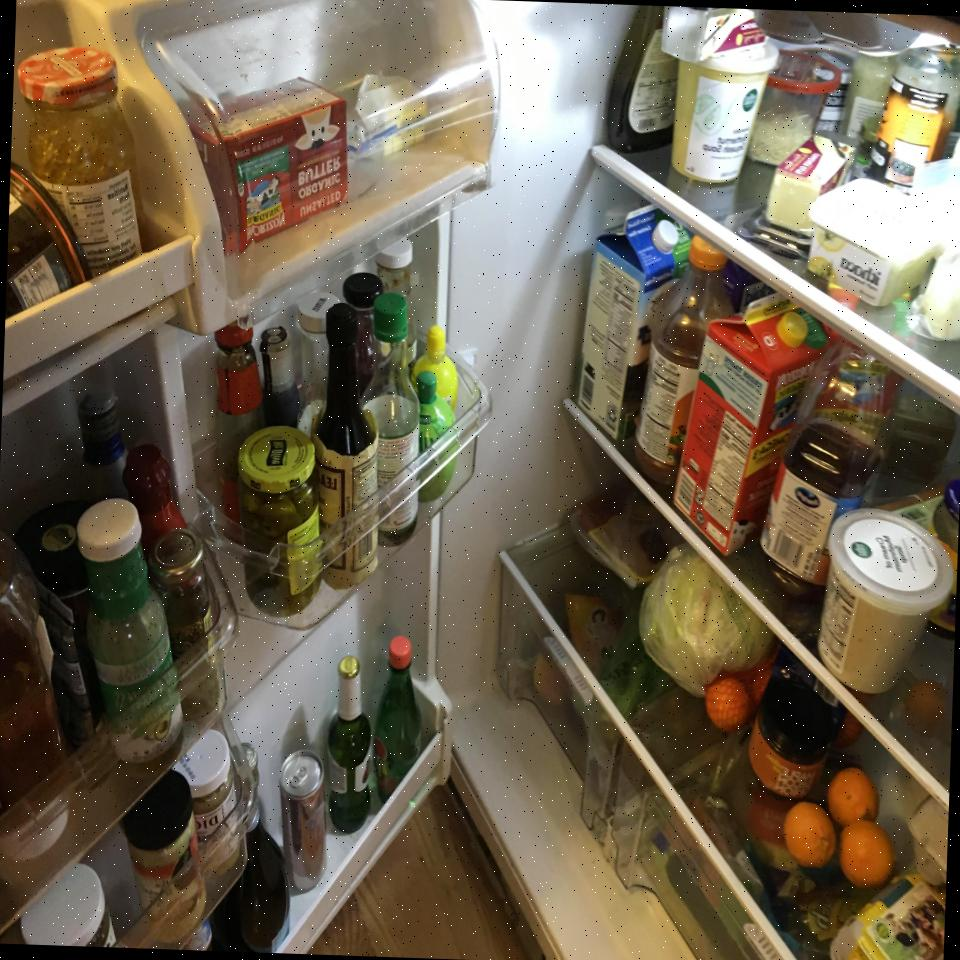Lechuga/Endivia: (638, 542, 777, 697)
